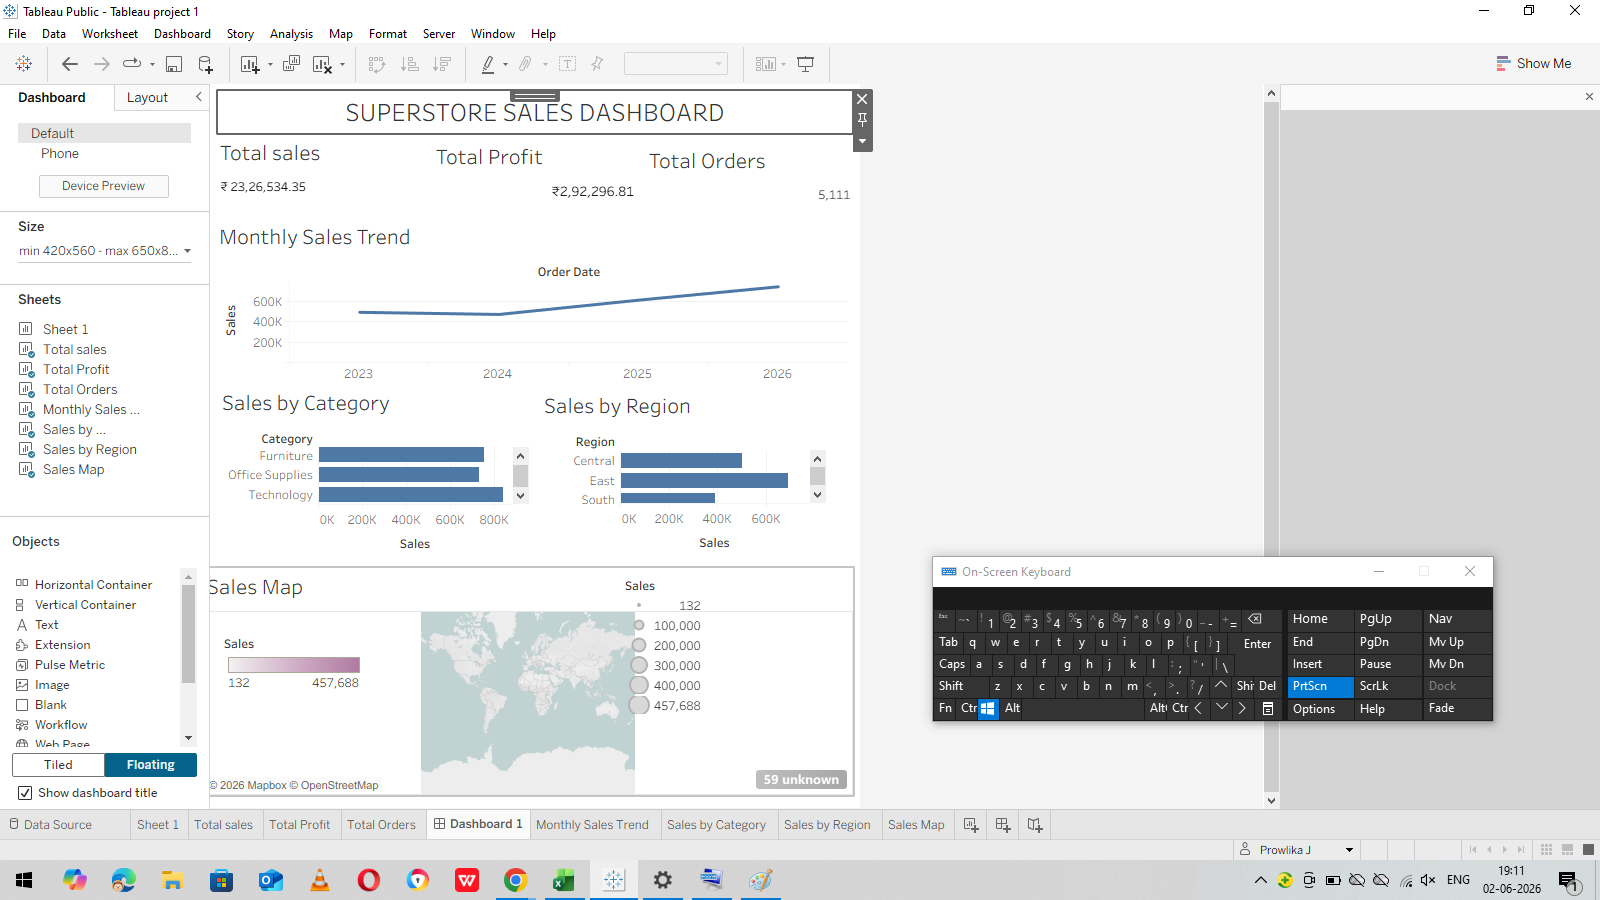

What the dashboard file says about the page in this screenshot:
{"tool":"tableau","page":{"name":"Dashboard 1","canvas":[650,860],"ordinal":0},"visuals":[{"type":"title","box":[8,9.5,634,49.8]},{"type":"worksheet","title":"Total sales","mark":"Automatic","box":[6,60.5,208,103.2]},{"type":"worksheet","title":"Total Profit","mark":"Automatic","box":[222,65.2,206,104.4]},{"type":"worksheet","title":"Total Orders","mark":"Automatic","box":[435,70,209,94.9]},{"type":"worksheet","title":"Monthly Sales Trend","mark":"Automatic","rows":["Sales"],"cols":["Order Date"],"box":[5,160.1,633,195.7]},{"type":"worksheet","title":"Sales by Category","mark":"Automatic","rows":["Category"],"cols":["Sales"],"box":[8,357,311,207.6]},{"type":"worksheet","title":"Sales by Region","mark":"Automatic","rows":["Region"],"cols":["Sales"],"box":[330,360.6,286,202.8]},{"type":"legend","title":"Sales Map","param":"[federated.0yy9n4i0fpb73x10en27s09a1rte].[sum:Sales:qk]","box":[415,586.6,140,210.8]},{"type":"legend","title":"Sales Map","param":"[federated.0yy9n4i0fpb73x10en27s09a1rte].[sum:Sales:qk]","box":[14,655.3,140,116.1]}]}

Visuals, with their boxes on the page's 650x860 design canvas (x1, y1, x2, y2). These are canvas units, not pixel positions in the 1600x900 screenshot, which may show the page scaled, cropped or inside an application window:
title: l=8, t=10, r=642, b=59
"Total sales" worksheet: l=6, t=60, r=214, b=164
"Total Profit" worksheet: l=222, t=65, r=428, b=170
"Total Orders" worksheet: l=435, t=70, r=644, b=165
"Monthly Sales Trend" worksheet: l=5, t=160, r=638, b=356
"Sales by Category" worksheet: l=8, t=357, r=319, b=565
"Sales by Region" worksheet: l=330, t=361, r=616, b=563
"Sales Map" legend: l=415, t=587, r=555, b=797
"Sales Map" legend: l=14, t=655, r=154, b=771
